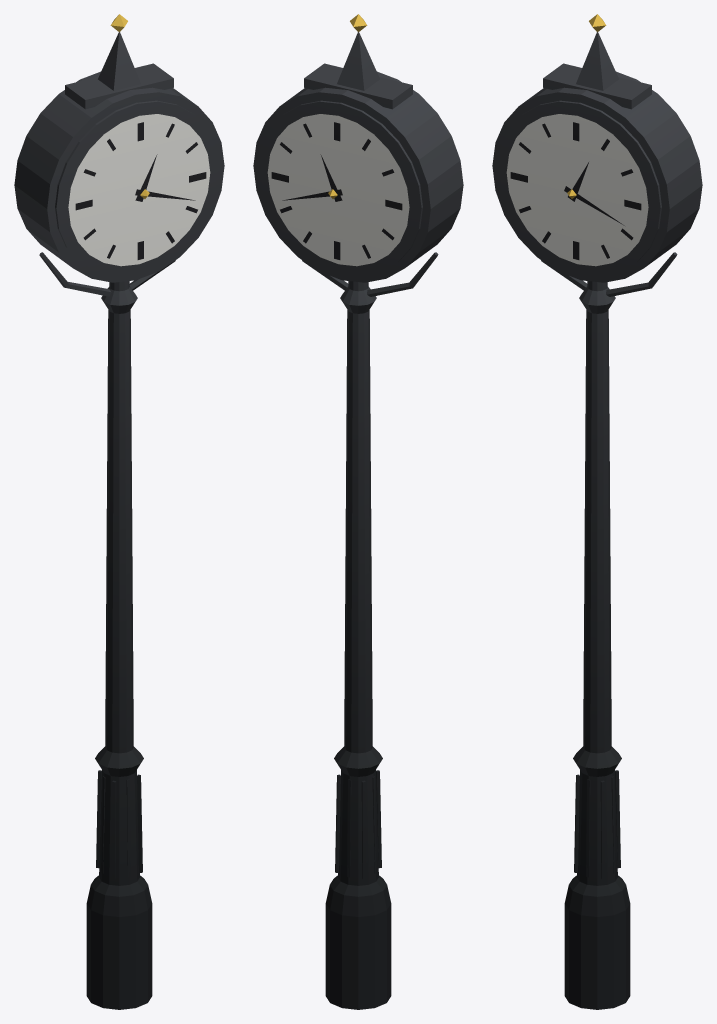
The model's file is Clock_Post.fbx.
3 renders of one model, left to right at view 1: azimuth 30°, elevation 25°; view 2: azimuth 150°, elevation 25°; view 3: azimuth 330°, elevation 25°, orthographic.
Parts seen in each view (by area): view 1: Clock_Post_LOD0; view 2: Clock_Post_LOD0; view 3: Clock_Post_LOD0.
Boxes of the visible parts, box(x1,y1,x2,y2) form: Clock_Post_LOD0: box(14, 14, 224, 1009); Clock_Post_LOD0: box(253, 14, 463, 1009); Clock_Post_LOD0: box(492, 14, 702, 1009).
Size of what is drawn, in the model's own units: 1 by 5.29 by 0.554.
Materials: 1 (1 with a texture image).
